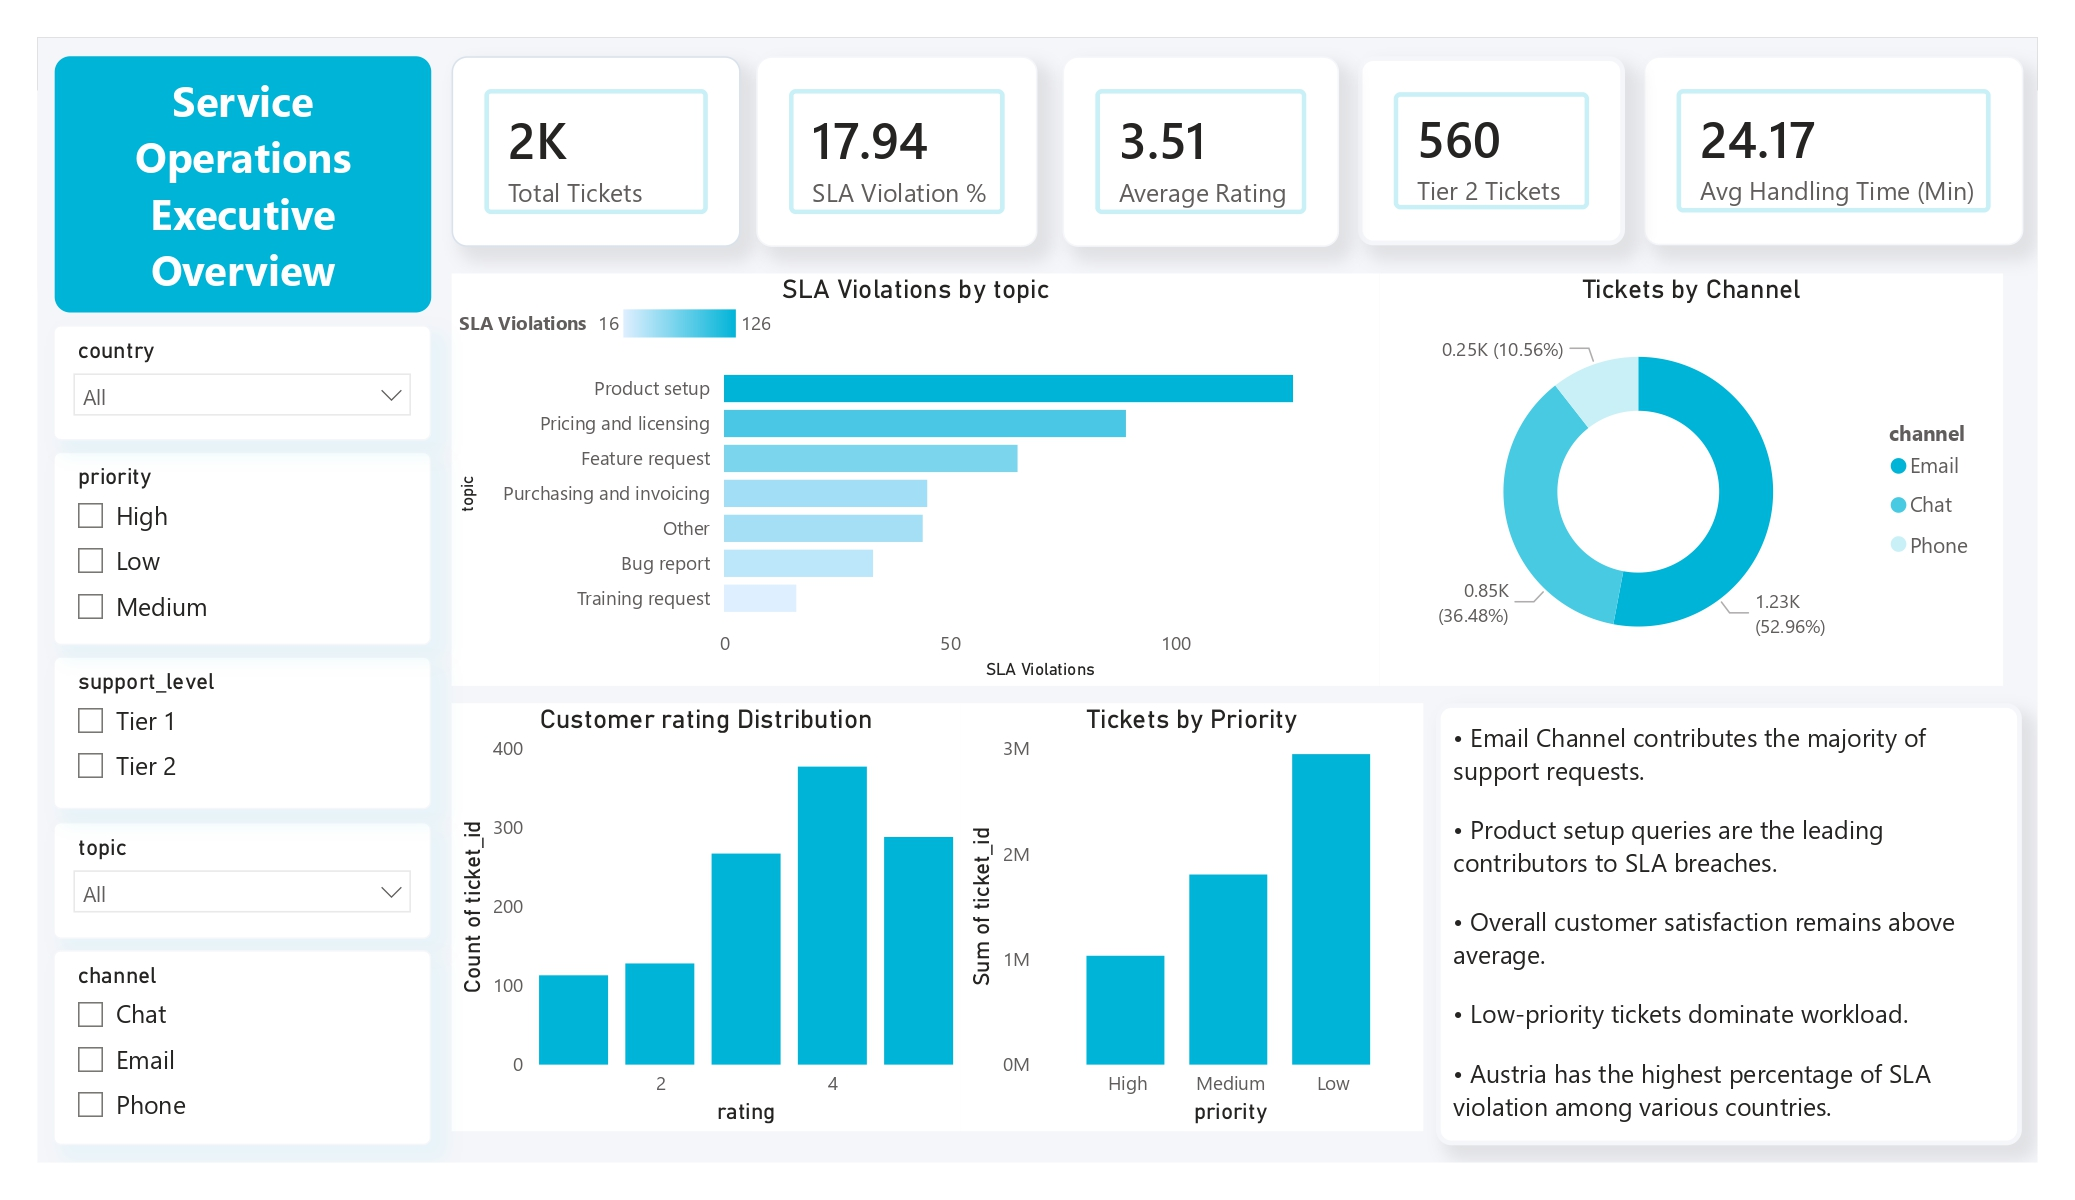

The dashboard page shown, as its layout file describes it:
{"tool":"powerbi","page":{"name":"Executive Overview","canvas":[1280,720],"ordinal":0},"visuals":[{"type":"cardVisual","fields":{"Data":["Final cleaned Sheet.Total Tickets"]},"box":[265.5,12,184.3,122.2],"z":0},{"type":"cardVisual","fields":{"Data":["Final cleaned Sheet.SLA Violation %"]},"box":[459.8,12,180.3,122.2],"z":1000},{"type":"cardVisual","fields":{"Data":["Final cleaned Sheet.Avg Handling Time"]},"box":[1028.2,12,242.3,121],"z":2000},{"type":"cardVisual","fields":{"Data":["Final cleaned Sheet.Tier 2 Tickets"]},"box":[845.4,12,170.3,121.2],"z":3000},{"type":"cardVisual","fields":{"Data":["Final cleaned Sheet.Average Rating"]},"box":[656.1,12,177.3,122.2],"z":4000},{"type":"donutChart","title":"Tickets by Channel","fields":{"Category":["Final cleaned Sheet.channel"],"Y":["CountNonNull(Final cleaned Sheet.ticket_id)"]},"box":[859,151.3,398.7,264.1],"z":5000},{"type":"clusteredBarChart","fields":{"Category":["Final cleaned Sheet.topic"],"Y":["Final cleaned Sheet.SLA Violations"]},"box":[265.4,151.3,593.6,264.1],"z":6000},{"type":"clusteredColumnChart","title":"Customer rating Distribution","fields":{"Category":["Final cleaned Sheet.rating"],"Y":["CountNonNull(Final cleaned Sheet.ticket_id)"]},"box":[265.4,425.6,325.6,274.4],"z":7000},{"type":"columnChart","title":"Tickets by Priority","fields":{"Category":["Final cleaned Sheet.priority"],"Y":["Sum(Final cleaned Sheet.ticket_id)"]},"box":[591,425.6,296.2,274.4],"z":8000},{"type":"slicer","fields":{"Values":["Final cleaned Sheet.topic"]},"box":[10,501.9,242.4,75.1],"z":9000},{"type":"slicer","fields":{"Values":["Final cleaned Sheet.support_level"]},"box":[10,395.7,242.4,98.2],"z":10000},{"type":"slicer","fields":{"Values":["Final cleaned Sheet.priority"]},"box":[10,265.5,242.4,123.2],"z":11000},{"type":"slicer","fields":{"Values":["Final cleaned Sheet.country"]},"box":[10,184.3,242.4,74.1],"z":12000},{"type":"slicer","fields":{"Values":["Final cleaned Sheet.channel"]},"box":[10,584,242.4,125.2],"z":13000},{"type":"textbox","box":[894.5,425.7,375.6,283.5],"z":14000},{"type":"textbox","box":[11,12,241.4,164.3],"z":14001}]}

Visuals, with their boxes on the page's 1280x720 design canvas (x1, y1, x2, y2). These are canvas units, not pixel positions in the 2075x1200 screenshot, which may show the page scaled, cropped or inside an application window:
cardVisual - Final cleaned Sheet.Total Tickets: BBox(266, 12, 450, 134)
cardVisual - Final cleaned Sheet.SLA Violation %: BBox(460, 12, 640, 134)
cardVisual - Final cleaned Sheet.Avg Handling Time: BBox(1028, 12, 1270, 133)
cardVisual - Final cleaned Sheet.Tier 2 Tickets: BBox(845, 12, 1016, 133)
cardVisual - Final cleaned Sheet.Average Rating: BBox(656, 12, 833, 134)
"Tickets by Channel" donutChart: BBox(859, 151, 1258, 415)
clusteredBarChart - Final cleaned Sheet.topic x Final cleaned Sheet.SLA Violations: BBox(265, 151, 859, 415)
"Customer rating Distribution" clusteredColumnChart: BBox(265, 426, 591, 700)
"Tickets by Priority" columnChart: BBox(591, 426, 887, 700)
slicer - Final cleaned Sheet.topic: BBox(10, 502, 252, 577)
slicer - Final cleaned Sheet.support_level: BBox(10, 396, 252, 494)
slicer - Final cleaned Sheet.priority: BBox(10, 266, 252, 389)
slicer - Final cleaned Sheet.country: BBox(10, 184, 252, 258)
slicer - Final cleaned Sheet.channel: BBox(10, 584, 252, 709)
textbox: BBox(894, 426, 1270, 709)
textbox: BBox(11, 12, 252, 176)
